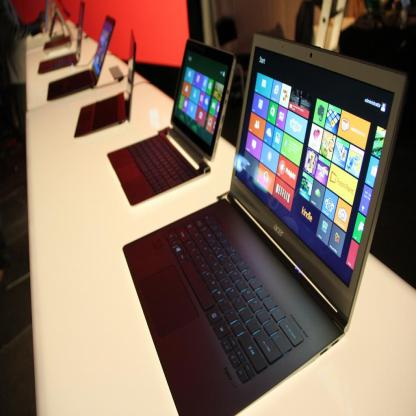board: (123, 30, 409, 416), (115, 25, 235, 217), (74, 33, 136, 135), (47, 14, 114, 102), (38, 0, 85, 74)
